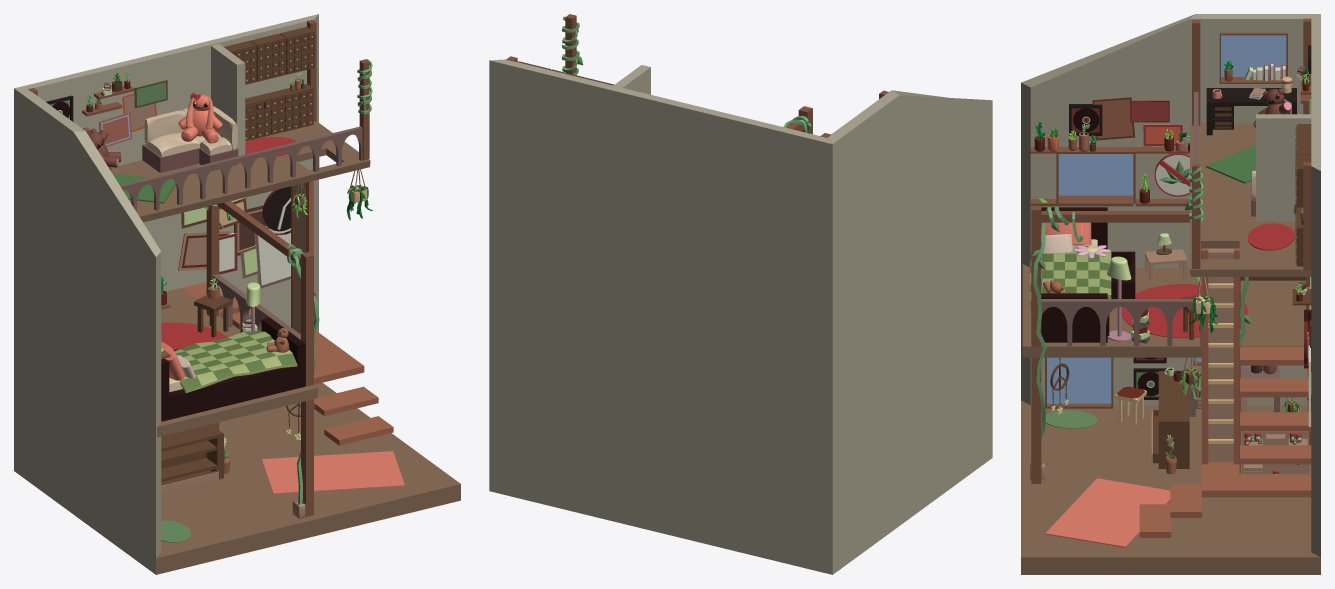
File: kruidenier_dorisnap_vmt1d.fbx
3 views of the same model, side by side, from view 1: azimuth 30°, elevation 25°; view 2: azimuth 150°, elevation 25°; view 3: azimuth 270°, elevation 25° (orthographic). The views are drawn at different scales.
Parts seen in each view (by area): view 1: Cube, Cube.146, Cube.011, Cube.041, Cube.133, Cube.142, Cube.002, Cube.017, Cube.008, Cube.006, Cube.130, Circle.002 (+25 smaller); view 2: Cube, Cube.130, Cube.010; view 3: Cube, Cube.002, Cube.008, Cube.006, Cube.040, Cube.041, Cube.130, Cube.011, Cube.017, Cube.010, Cube.001, Cube.133 (+31 smaller).
Boxes of the visible parts, bbox=[...] form: Cube: bbox=[14, 14, 460, 574]; Cube.146: bbox=[224, 27, 315, 141]; Cube.011: bbox=[161, 317, 305, 421]; Cube.041: bbox=[261, 451, 404, 494]; Cube.133: bbox=[174, 331, 297, 392]; Cube.142: bbox=[142, 106, 238, 172]; Cube.002: bbox=[157, 288, 317, 437]; Cube.017: bbox=[161, 424, 223, 493]; Cube.008: bbox=[182, 282, 393, 445]; Cube.006: bbox=[291, 181, 364, 384]; Cube.130: bbox=[211, 44, 245, 155]; Circle.002: bbox=[225, 126, 362, 193]; Cube: bbox=[489, 59, 992, 574]; Cube.130: bbox=[613, 65, 650, 94]; Cube.010: bbox=[506, 14, 888, 137]; Cube: bbox=[1021, 14, 1320, 574]; Cube.002: bbox=[1022, 264, 1305, 357]; Cube.008: bbox=[1139, 347, 1311, 537]; Cube.006: bbox=[1201, 248, 1311, 497]; Cube.040: bbox=[1208, 248, 1233, 462]; Cube.041: bbox=[1045, 478, 1170, 547]; Cube.130: bbox=[1256, 114, 1311, 221]; Cube.011: bbox=[1041, 207, 1135, 342]; Cube.017: bbox=[1151, 371, 1189, 468]; Cube.010: bbox=[1192, 18, 1311, 269]; Cube.001: bbox=[1047, 357, 1111, 403]; Cube.133: bbox=[1030, 246, 1111, 313].
Bounding box in the file's own units: 2239 × 2687 × 1807.
